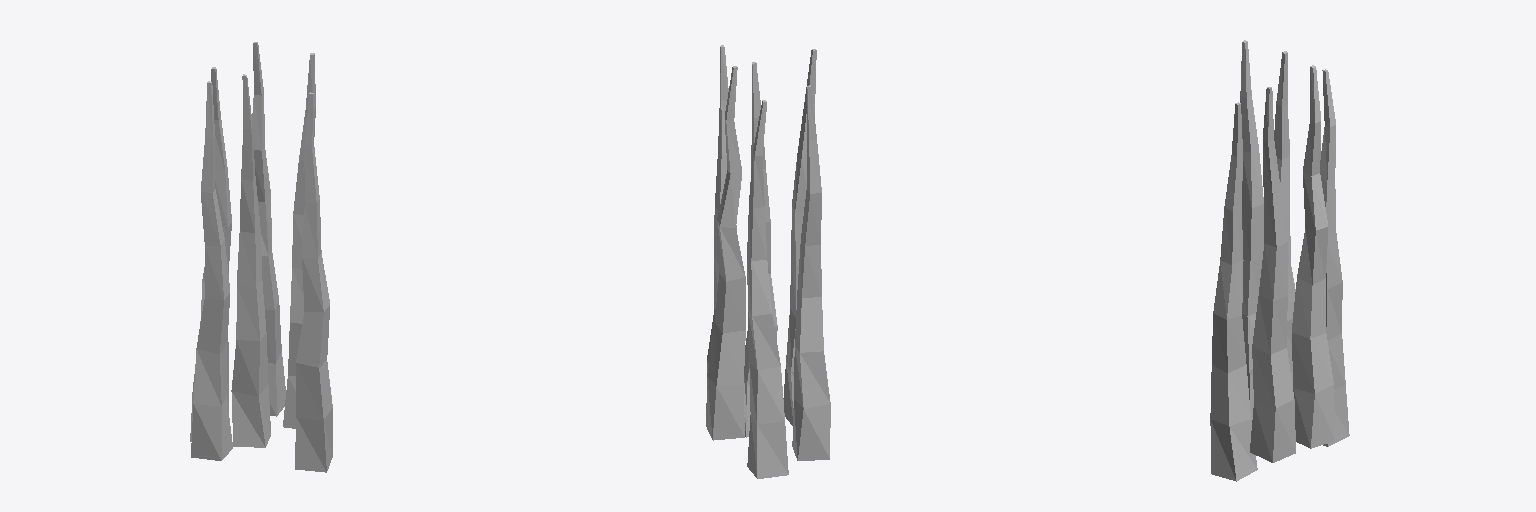
File: seaweed.obj
The picture shows the model from 3 angles: view 1: azimuth 30°, elevation 25°; view 2: azimuth 150°, elevation 25°; view 3: azimuth 270°, elevation 25°; orthographic projection.
Size of the model in its own units: 0.3276 by 0.9855 by 0.3101.